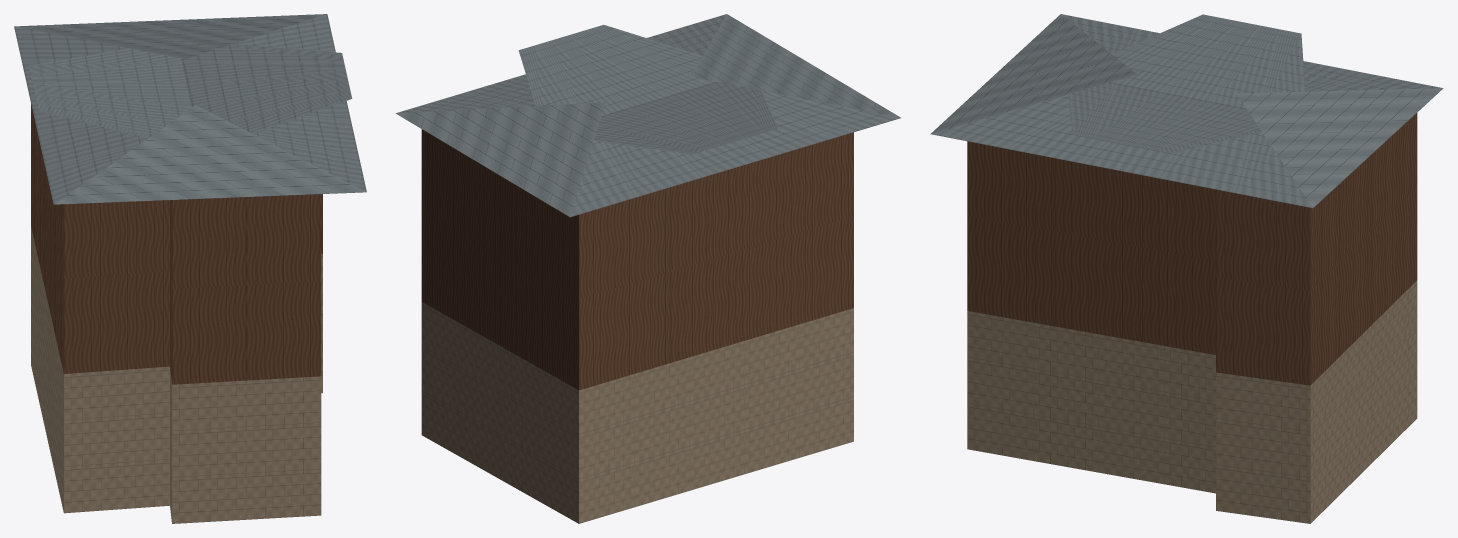
The model's file is bld_c9_28_405.gltf.
3 renders of one model, left to right at view 1: azimuth 30°, elevation 25°; view 2: azimuth 150°, elevation 25°; view 3: azimuth 270°, elevation 25°, orthographic. The views are drawn at different scales.
Visible parts, largest first — view 1: bld_c9_28_405; view 2: bld_c9_28_405; view 3: bld_c9_28_405.
Part boxes in pixels (bbox=[...]): bld_c9_28_405: bbox=[14, 14, 366, 523]; bld_c9_28_405: bbox=[396, 14, 900, 523]; bld_c9_28_405: bbox=[930, 14, 1443, 523].
Size of the model in its own units: 15.37 by 13.1 by 17.15.
3 materials, 3 textured.
